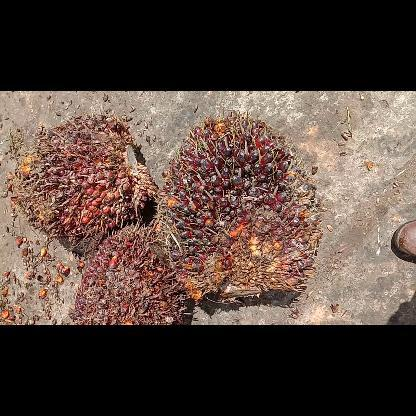Kurang masak: (7, 113, 157, 250)
TBS masak: (158, 112, 322, 304), (68, 222, 188, 324)
